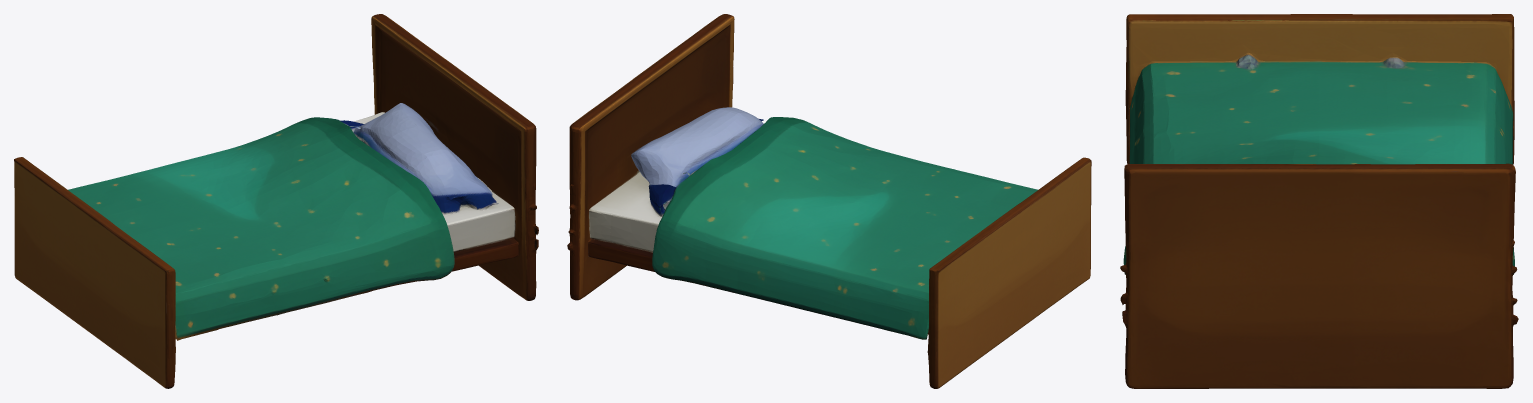
3 views of the same model, side by side, from view 1: azimuth 30°, elevation 25°; view 2: azimuth 150°, elevation 25°; view 3: azimuth 270°, elevation 25° (orthographic). The views are drawn at different scales.
Visible parts, largest first — view 1: geometry_0; view 2: geometry_0; view 3: geometry_0.
Part boxes in pixels (x1,y1,x2,y2): geometry_0: [14, 14, 538, 388]; geometry_0: [567, 14, 1091, 388]; geometry_0: [1120, 14, 1518, 388].
Bounding box in the file's own units: 0.9993 × 0.4556 × 0.7413.
1 material, 1 textured.
